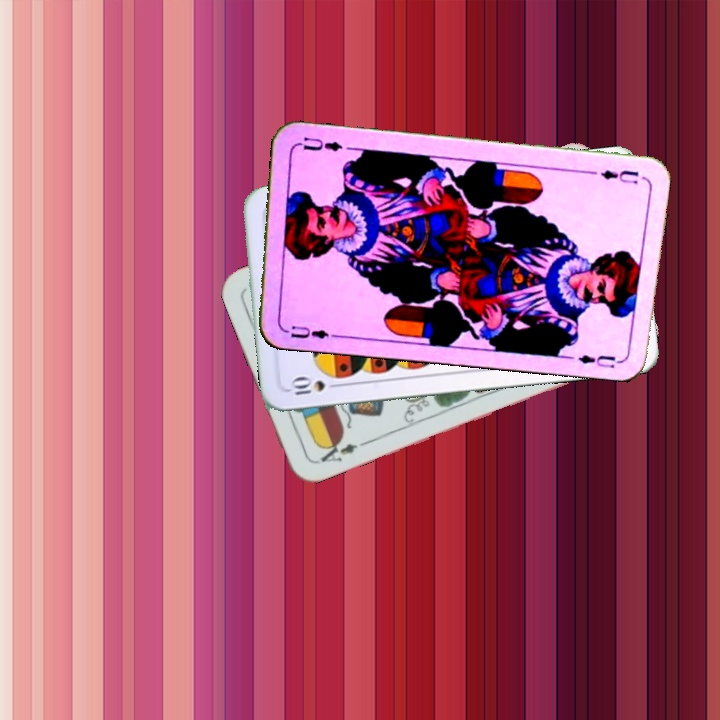EA: (311, 436, 360, 467)
EU: (279, 321, 338, 341), (596, 166, 644, 187)
S10: (285, 374, 344, 398)
